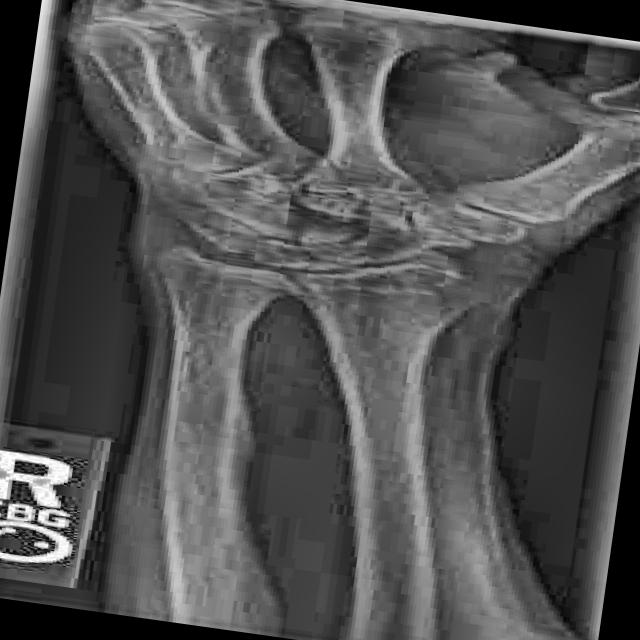fingers positive: (296, 265, 515, 338), (247, 163, 389, 236)
